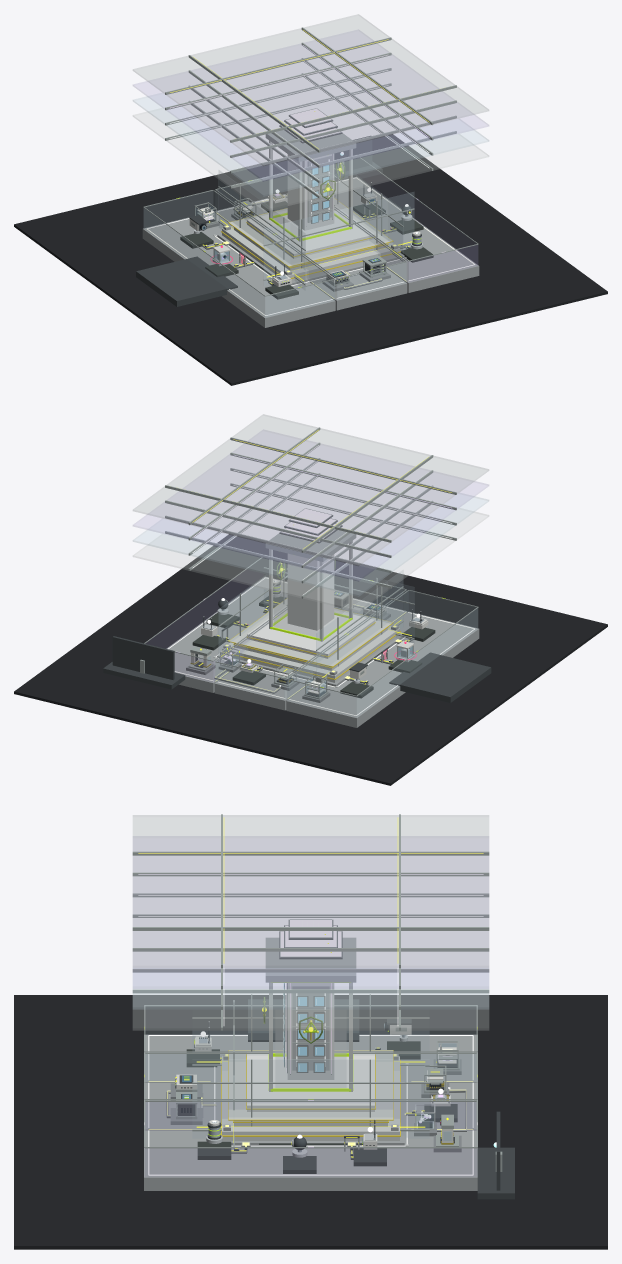
File: AutoPolicy_Production.glb
3 views of the same model, one above another, from view 1: azimuth 30°, elevation 25°; view 2: azimuth 150°, elevation 25°; view 3: azimuth 270°, elevation 25° (orthographic). The views are drawn at different scales.
Visible parts, largest first — view 1: Ground, AP16B_04_POLICY_Glass, AP16B_03_INTELLIGENCE_Glass, AP16B_02_TELEMETRY_Glass, AP16B_01_CAPTURE_Glass, AP16F_Front_Glass, Zone_A, Zone_B, AP16F_Left_Glass, AP16C_Restricted_Base, Core_Step_02, AP16J_A_Wall_Left (+30 smaller); view 2: Ground, AP16B_04_POLICY_Glass, AP16B_03_INTELLIGENCE_Glass, AP16B_02_TELEMETRY_Glass, AP16B_01_CAPTURE_Glass, Zone_A, AP16F_Left_Glass, Zone_B, AP16C_Restricted_Base, Core_Step_02, Core_Tower, AP16J_A_Wall_Left (+29 smaller); view 3: Ground, AP16B_04_POLICY_Glass, AP16B_03_INTELLIGENCE_Glass, Zone_B, AP16F_Right_Glass, AP16B_02_TELEMETRY_Glass, AP16B_01_CAPTURE_Glass, AP16J_B_Wall_Right, Zone_A, AP16F_Left_Glass, Core_Step_02, Core_Glass_Right (+30 smaller).
Part boxes in pixels (box(x1,y1,x2,y2)): Ground: box(14, 134, 607, 385); AP16B_04_POLICY_Glass: box(133, 14, 488, 165); AP16B_03_INTELLIGENCE_Glass: box(133, 30, 488, 181); AP16B_02_TELEMETRY_Glass: box(133, 93, 488, 196); AP16B_01_CAPTURE_Glass: box(133, 108, 488, 211); AP16F_Front_Glass: box(264, 192, 414, 285); Zone_A: box(142, 212, 335, 327); Zone_B: box(286, 176, 479, 292); AP16F_Left_Glass: box(218, 170, 305, 290); AP16C_Restricted_Base: box(136, 256, 237, 306); Core_Step_02: box(247, 205, 374, 258); AP16J_A_Wall_Left: box(144, 208, 264, 316); Ground: box(14, 534, 607, 785); AP16B_04_POLICY_Glass: box(133, 414, 488, 565); AP16B_03_INTELLIGENCE_Glass: box(133, 430, 488, 581); AP16B_02_TELEMETRY_Glass: box(133, 493, 488, 596); AP16B_01_CAPTURE_Glass: box(133, 508, 488, 611); Zone_A: box(286, 611, 479, 727); AP16F_Left_Glass: box(316, 570, 403, 682); Zone_B: box(166, 576, 287, 692); AP16C_Restricted_Base: box(389, 652, 491, 702); Core_Step_02: box(247, 605, 374, 658); Core_Tower: box(287, 553, 334, 630); AP16J_A_Wall_Left: box(357, 608, 477, 716); Ground: box(14, 995, 607, 1249); AP16B_04_POLICY_Glass: box(133, 815, 488, 967); AP16B_03_INTELLIGENCE_Glass: box(133, 836, 488, 988); Zone_B: box(144, 1130, 477, 1190); AP16F_Right_Glass: box(192, 1059, 429, 1138); AP16B_02_TELEMETRY_Glass: box(133, 968, 488, 1009); AP16B_01_CAPTURE_Glass: box(133, 993, 488, 1030); AP16J_B_Wall_Right: box(145, 1148, 476, 1176); Zone_A: box(144, 1034, 477, 1082); AP16F_Left_Glass: box(192, 1010, 429, 1050); Core_Step_02: box(247, 1052, 374, 1111); Core_Glass_Right: box(275, 1010, 346, 1087).
Bounding box in the file's own units: 16 × 6.96 × 16.
